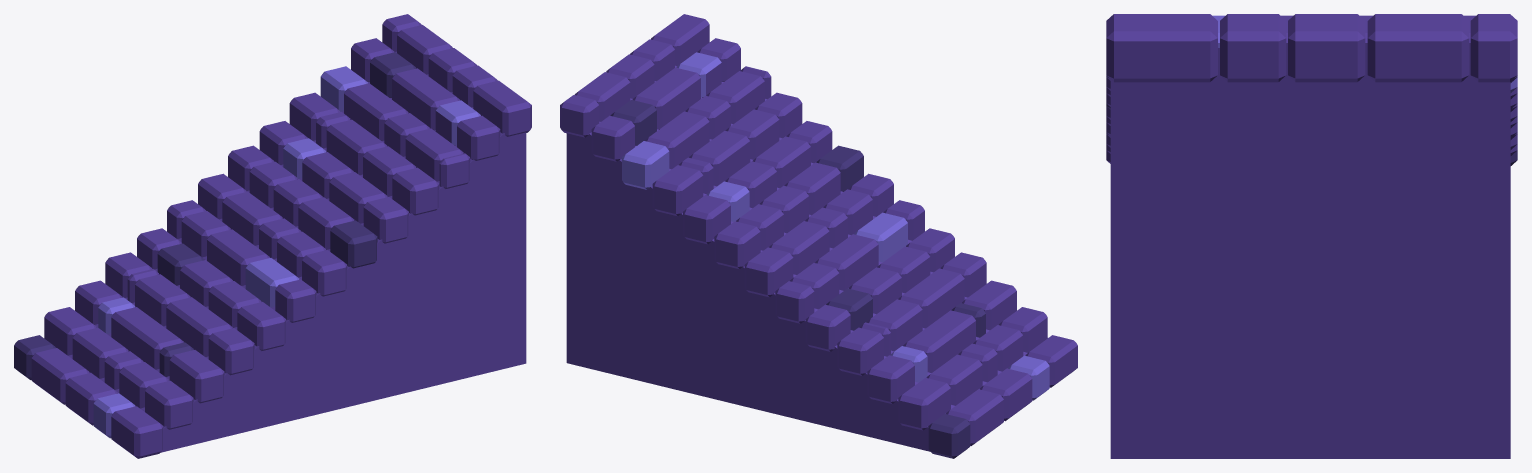
The model's file is ruinstairs.fbx.
3 renders of one model, left to right at view 1: azimuth 30°, elevation 25°; view 2: azimuth 150°, elevation 25°; view 3: azimuth 270°, elevation 25°, orthographic. The views are drawn at different scales.
Parts seen in each view (by area): view 1: Cube.024, Cube.029; view 2: Cube.024, Cube.029; view 3: Cube.029, Cube.024.
Part boxes in pixels (<box>): Cube.024: <box>14,14,531,458</box>; Cube.029: <box>68,51,526,452</box>; Cube.024: <box>560,14,1077,458</box>; Cube.029: <box>566,65,1027,451</box>; Cube.029: <box>1110,48,1510,458</box>; Cube.024: <box>1106,14,1517,165</box>.
Bounding box in the file's own units: 1082 × 681 × 587.
